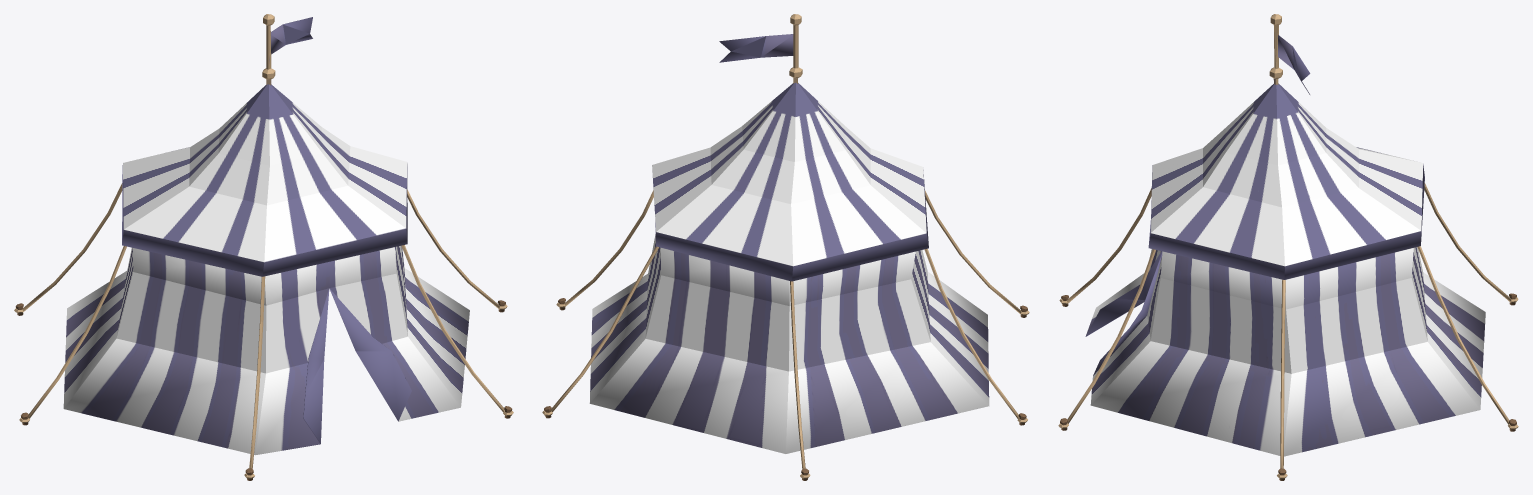
Rendered from carpita violeta.fbx.
The picture shows the model from 3 angles, left to right: view 1: azimuth 30°, elevation 25°; view 2: azimuth 150°, elevation 25°; view 3: azimuth 270°, elevation 25°; orthographic projection. The views are drawn at different scales.
Visible parts, largest first — view 1: tent_pirple; view 2: tent_pirple; view 3: tent_pirple.
Part boxes in pixels (bbox=[...]): tent_pirple: bbox=[14, 14, 513, 480]; tent_pirple: bbox=[542, 14, 1029, 480]; tent_pirple: bbox=[1058, 14, 1518, 480].
Bounding box in the file's own units: 1060 × 747 × 886.
Materials: 1 (1 with a texture image).
